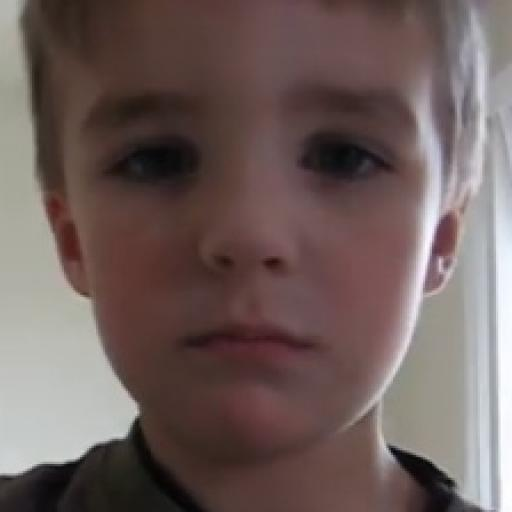Autism: (23, 3, 512, 482)
